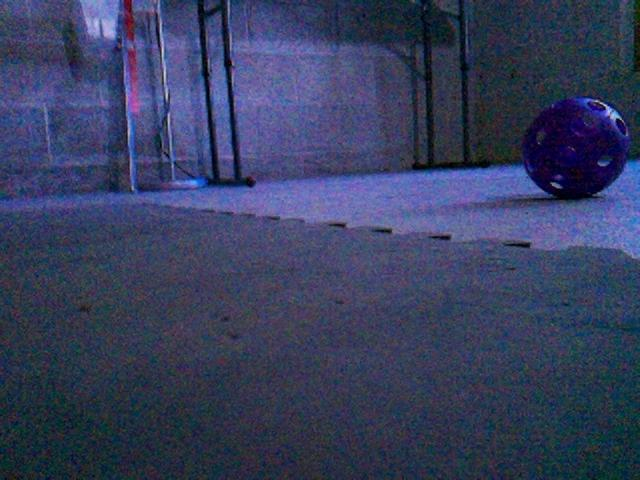Purple: (521, 94, 632, 199)
